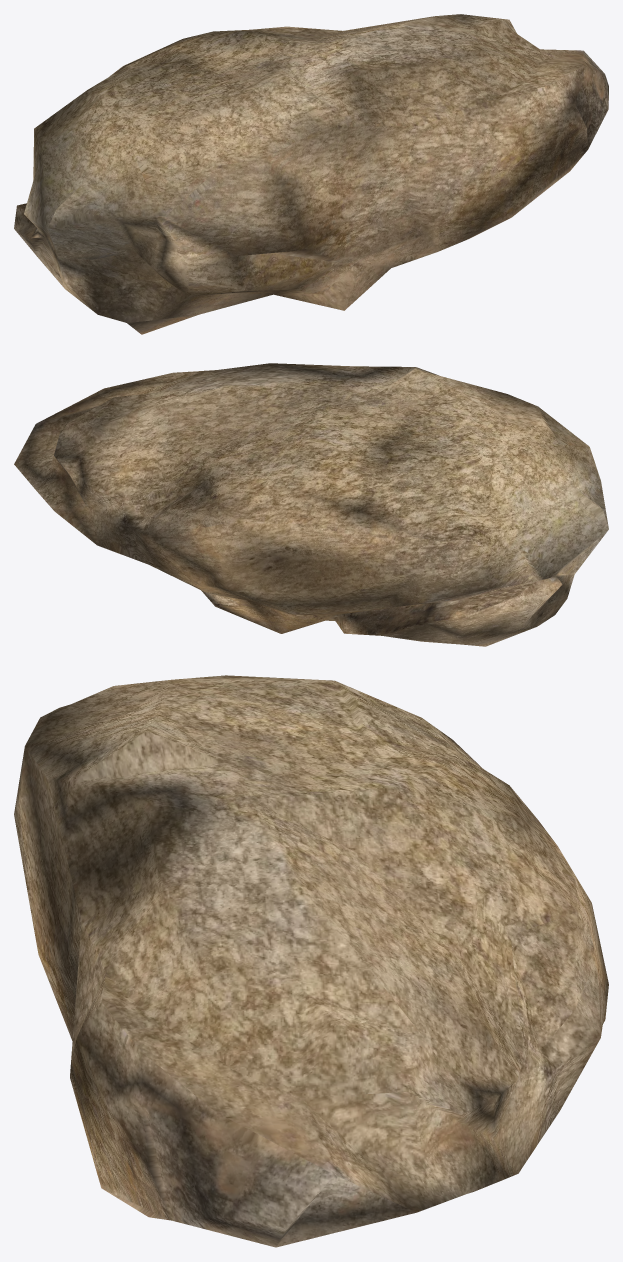
The model's file is namaqualand_boulder_05.glb.
3 views of the same model, one above another, from view 1: azimuth 30°, elevation 25°; view 2: azimuth 150°, elevation 25°; view 3: azimuth 270°, elevation 25° (orthographic). The views are drawn at different scales.
Parts seen in each view (by area): view 1: namaqualand_boulder_05; view 2: namaqualand_boulder_05; view 3: namaqualand_boulder_05.
Boxes of the visible parts, x1=… form: namaqualand_boulder_05: x1=14, y1=14, x2=608, y2=334; namaqualand_boulder_05: x1=14, y1=363, x2=608, y2=646; namaqualand_boulder_05: x1=14, y1=675, x2=608, y2=1247.
Size of the model in its own units: 1.36 by 0.5259 by 0.7377.
1 material, 1 textured.
